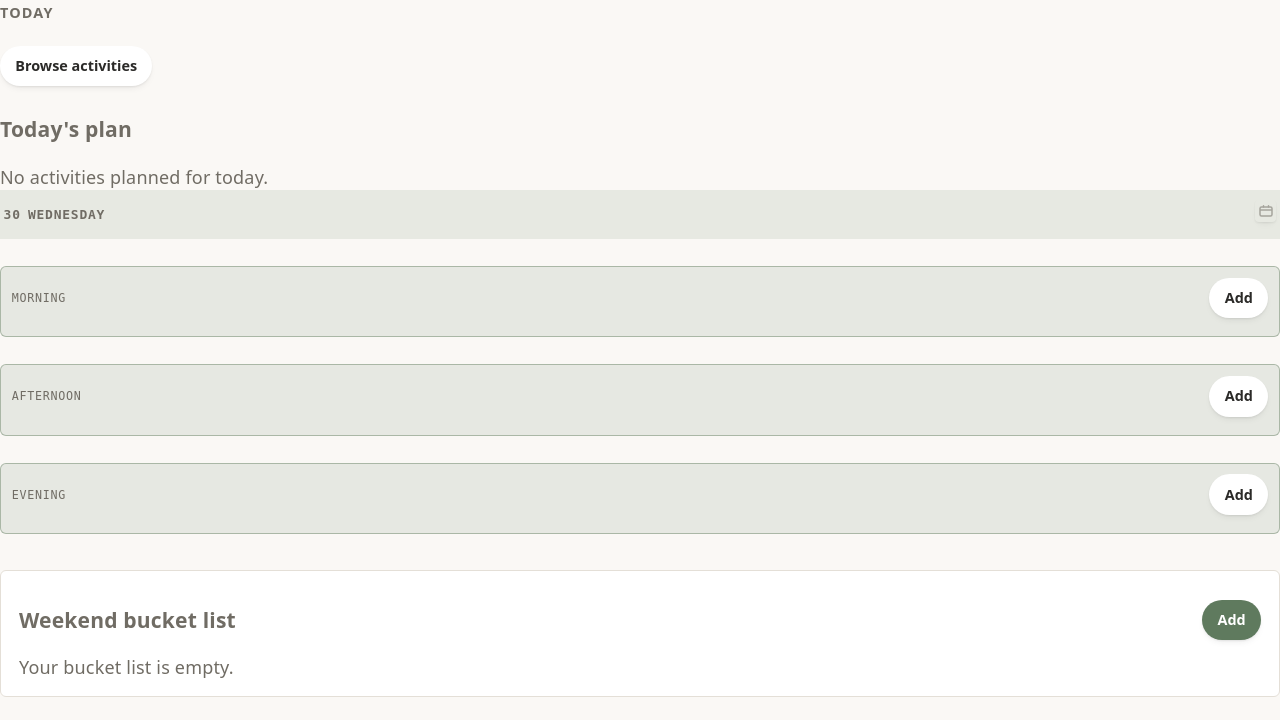
it: TodayView › FRONTEND-048-AC-02: requesting Assign closes an open drawer › closes the drawer when Add is clicked on a grid cell
Click the button "Browse activities" at coordinates (76, 66), box 0,46 -> 152,86
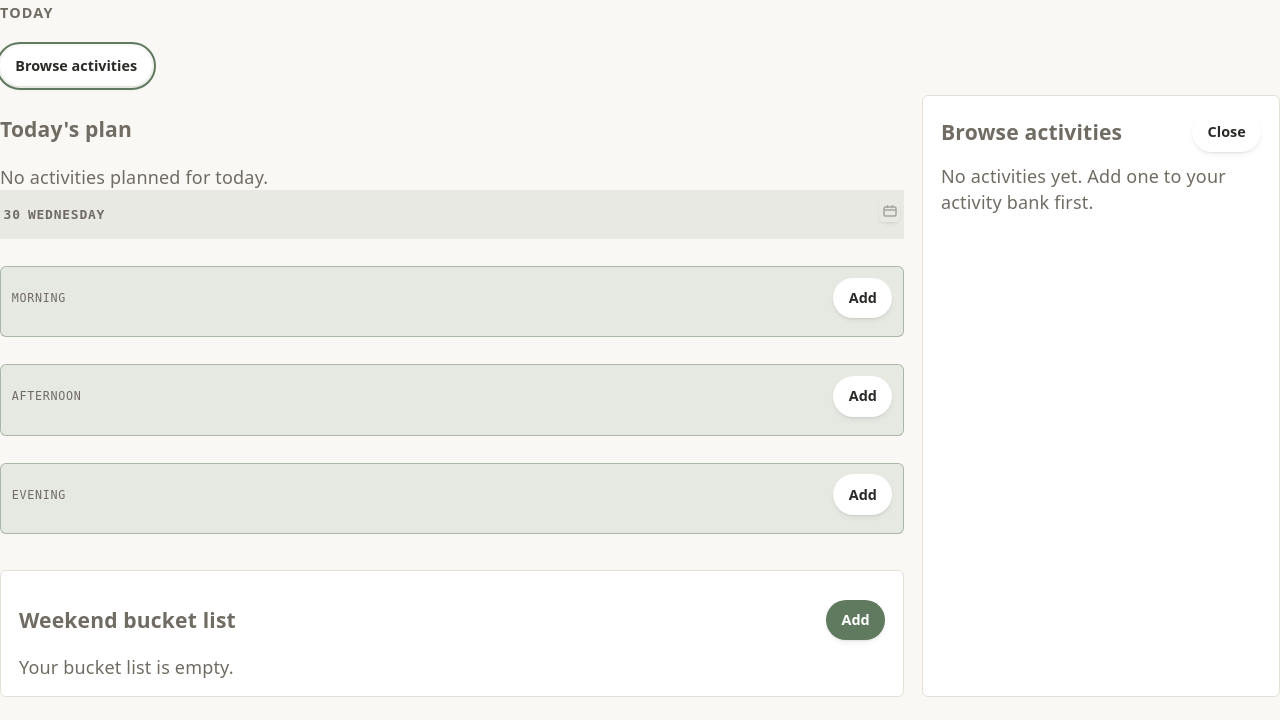
Check: the element "activities" is shown, box 922,95 -> 1279,697
Click the button with aria-label "add to wednesday morning" at coordinates (863, 298), box 834,278 -> 892,318
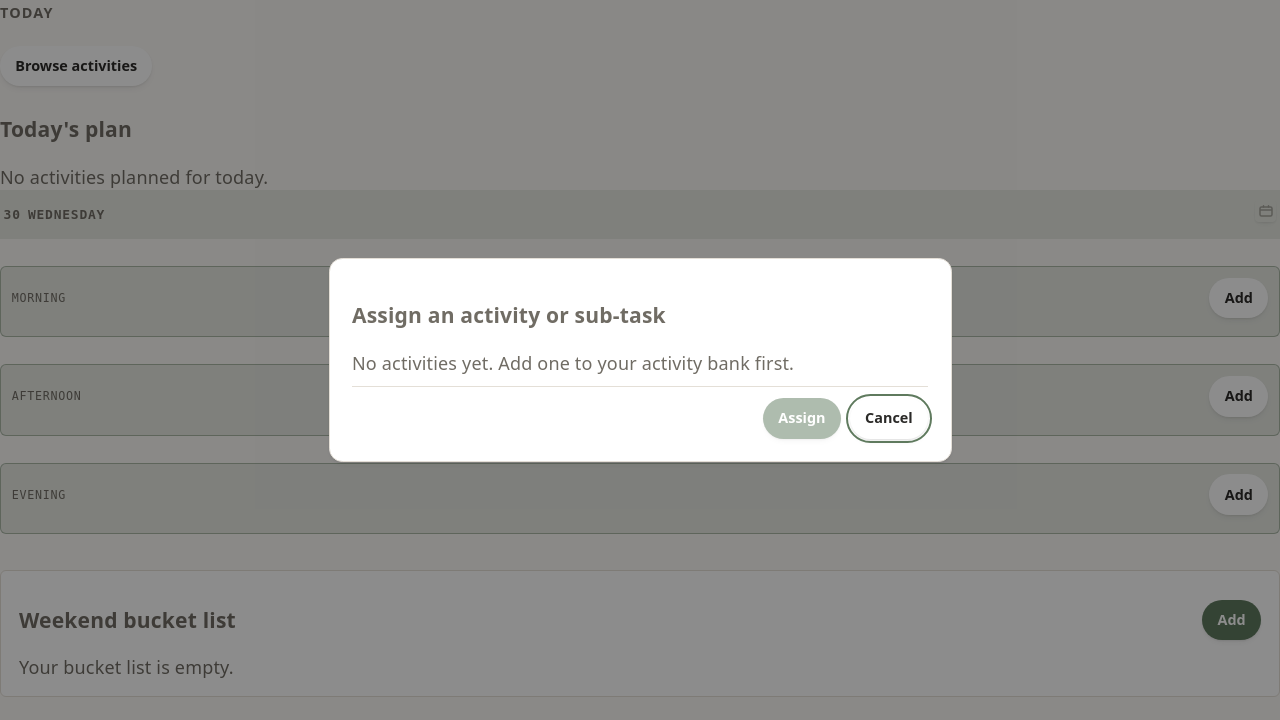
Check: the dialog "Assign an activity or sub-task" is shown, box 328,258 -> 952,462
